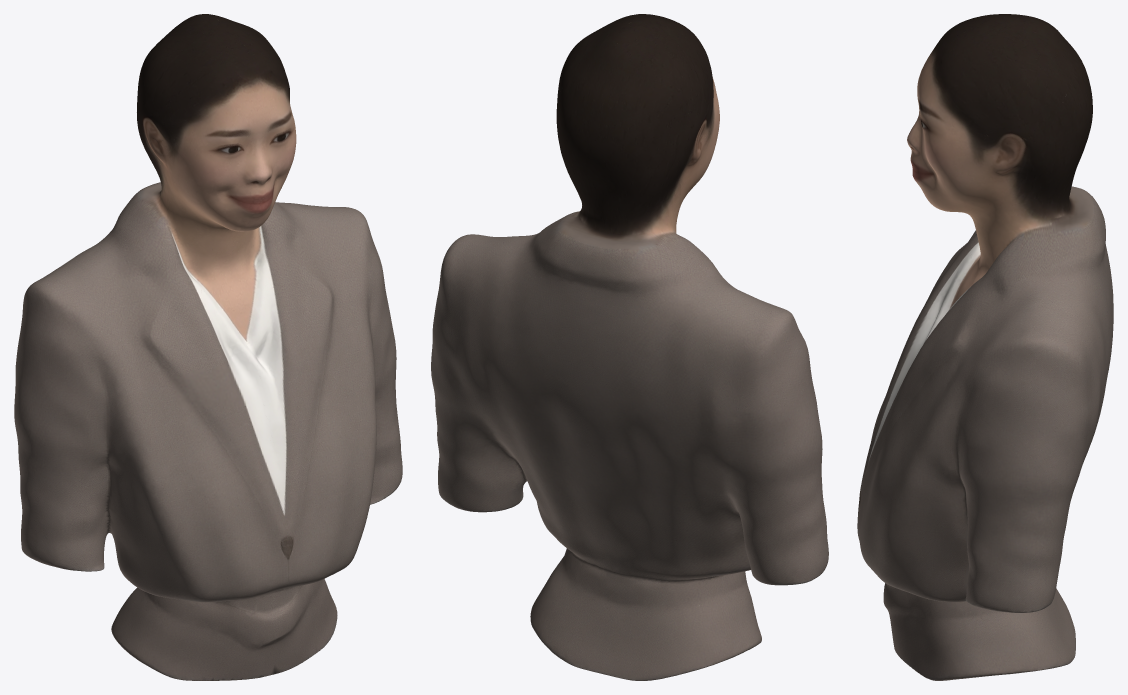
Rendered from female.glb.
3 views of the same model, side by side, from view 1: azimuth 30°, elevation 25°; view 2: azimuth 150°, elevation 25°; view 3: azimuth 270°, elevation 25° (orthographic). The views are drawn at different scales.
Parts seen in each view (by area): view 1: mesh_node; view 2: mesh_node; view 3: mesh_node.
Boxes of the visible parts, left/top/right/bottom form: mesh_node: left=14, top=14, right=402, bottom=680; mesh_node: left=431, top=14, right=828, bottom=680; mesh_node: left=857, top=14, right=1113, bottom=680.
Bounding box in the file's own units: 1.2 × 1.9 × 0.7047.
Materials: 1 (1 with a texture image).
